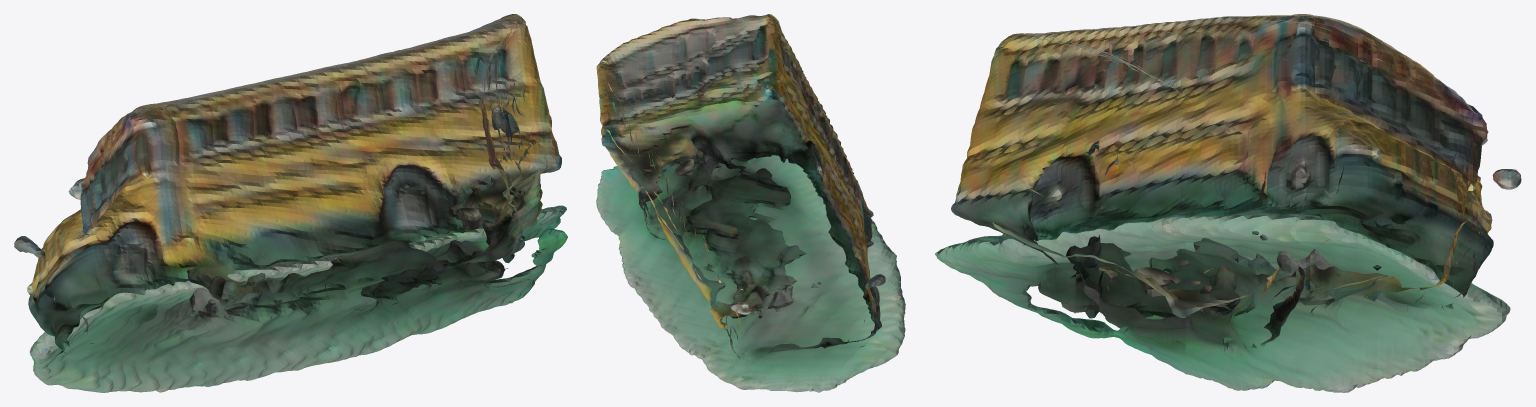
3 renders of one model, left to right at view 1: azimuth 30°, elevation 25°; view 2: azimuth 150°, elevation 25°; view 3: azimuth 270°, elevation 25°, orthographic. The views are drawn at different scales.
Parts seen in each view (by area): view 1: geometry_0; view 2: geometry_0; view 3: geometry_0.
Boxes of the visible parts, x1,y1,x2,y2 form: geometry_0: [14, 14, 567, 392]; geometry_0: [596, 14, 905, 392]; geometry_0: [935, 14, 1521, 392].
Size of the model in its own units: 1.6 by 1.11 by 1.48.
